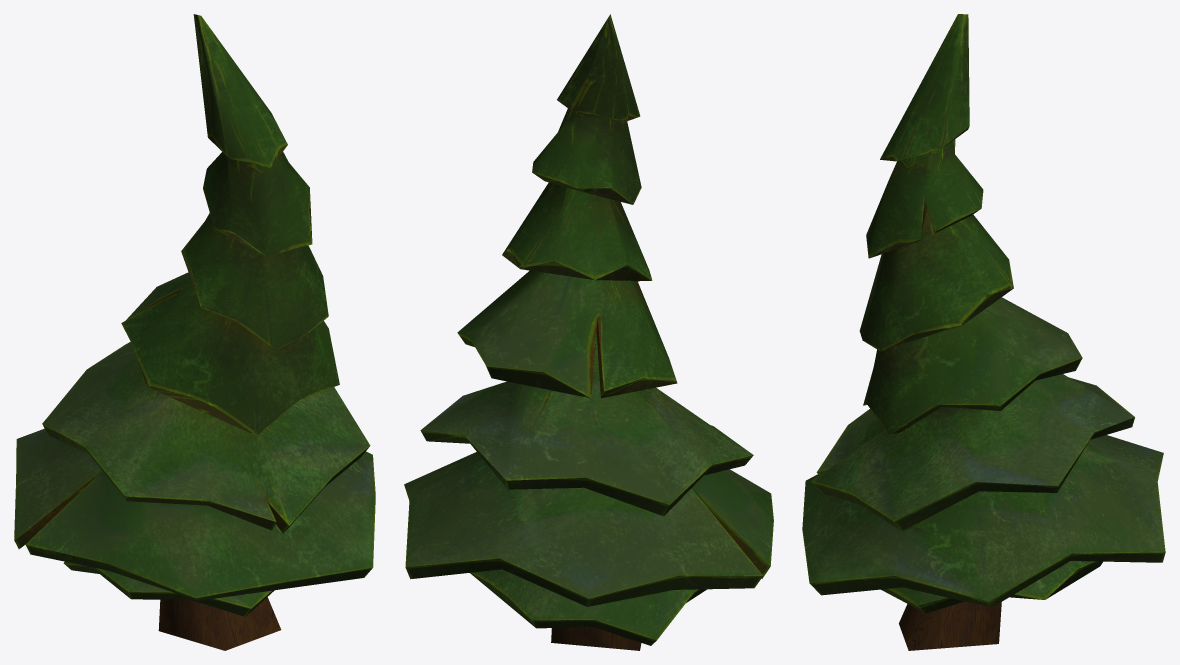
Rendered from SM_Tree_01_Reduced.FBX.
3 views of the same model, side by side, from view 1: azimuth 30°, elevation 25°; view 2: azimuth 150°, elevation 25°; view 3: azimuth 270°, elevation 25° (orthographic).
Visible parts, largest first — view 1: SM_Tree_01_Reduced; view 2: SM_Tree_01_Reduced; view 3: SM_Tree_01_Reduced.
Part boxes in pixels (x1,y1,x2,y2): SM_Tree_01_Reduced: (14,14,375,650); SM_Tree_01_Reduced: (404,14,773,650); SM_Tree_01_Reduced: (802,14,1165,650).
Size of the model in its own units: 124 by 109 by 203.
